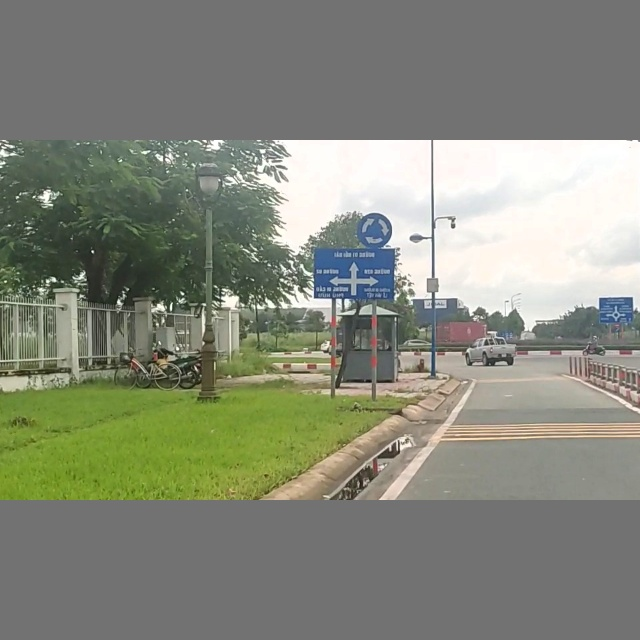R.303: (357, 211, 393, 247)
